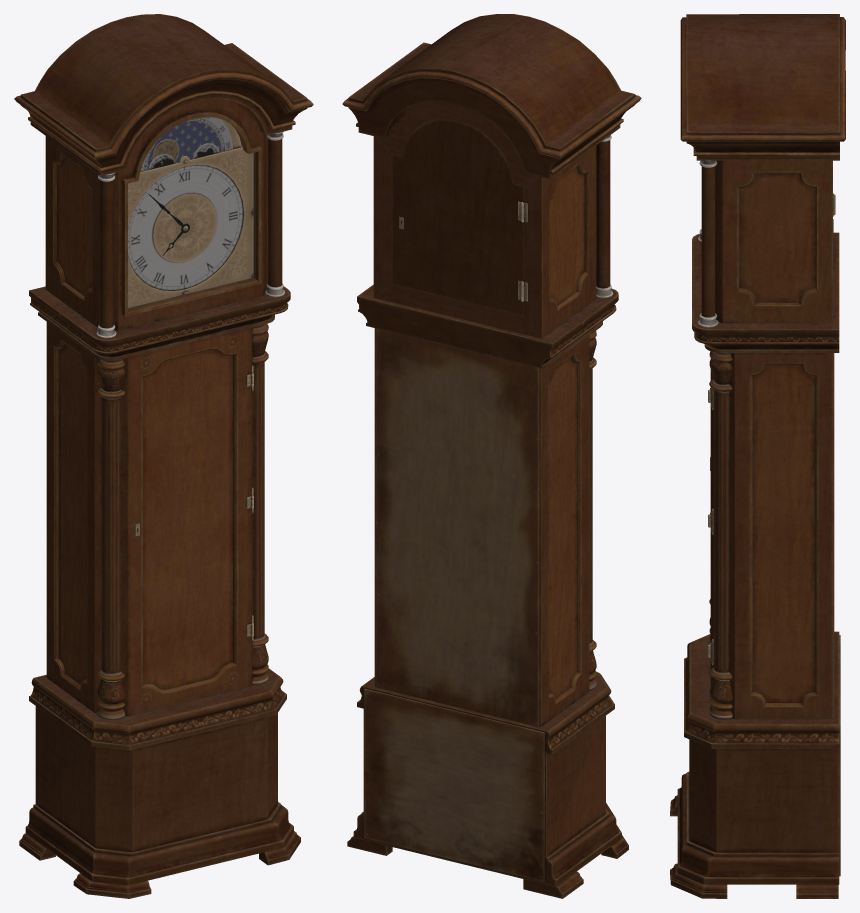
The model's file is vintage_grandfather_clock_01_4k-v1.glb.
3 renders of one model, left to right at view 1: azimuth 30°, elevation 25°; view 2: azimuth 150°, elevation 25°; view 3: azimuth 270°, elevation 25°, orthographic. The views are drawn at different scales.
Visible parts, largest first — view 1: vintage_grandfather_clock_01_Body; view 2: vintage_grandfather_clock_01_Body; view 3: vintage_grandfather_clock_01_Body.
Part boxes in pixels (x1,y1,x2,y2): vintage_grandfather_clock_01_Body: [14, 14, 313, 898]; vintage_grandfather_clock_01_Body: [342, 14, 641, 898]; vintage_grandfather_clock_01_Body: [670, 14, 845, 898].
Size of the model in its own units: 0.6256 by 2.19 by 0.4266.
Materials: 2 (1 with a texture image).
